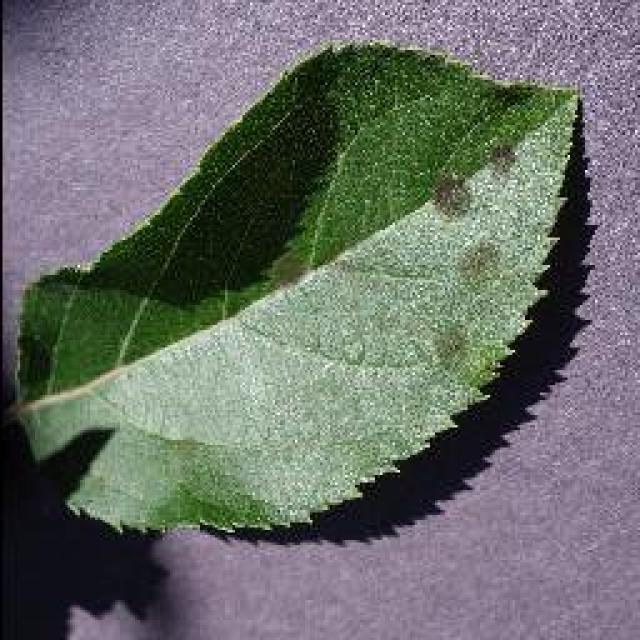apple scab disease: (10, 35, 585, 540)
